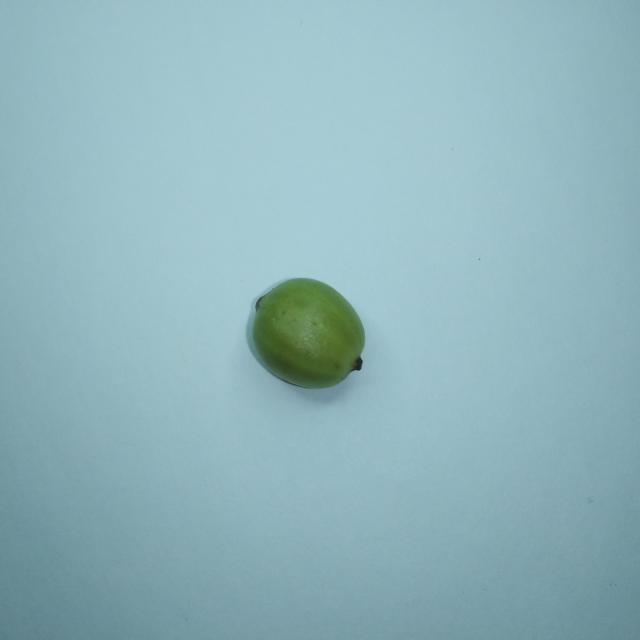Sano: (247, 278, 364, 388)
